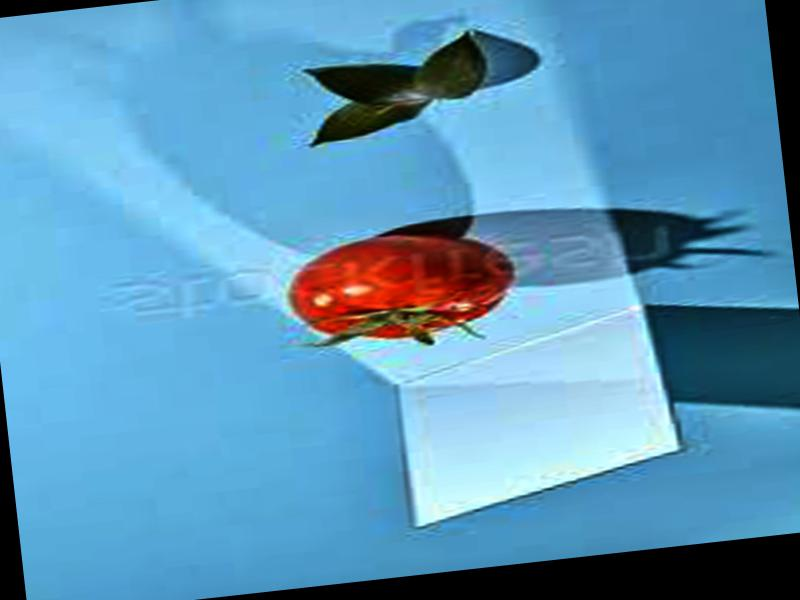Tomato: (278, 222, 520, 351)
